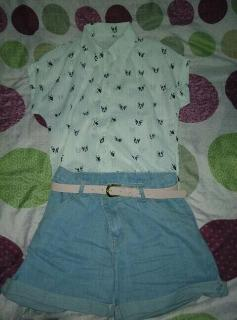short sleeve top: (27, 22, 190, 205)
shorts: (1, 166, 229, 319)
